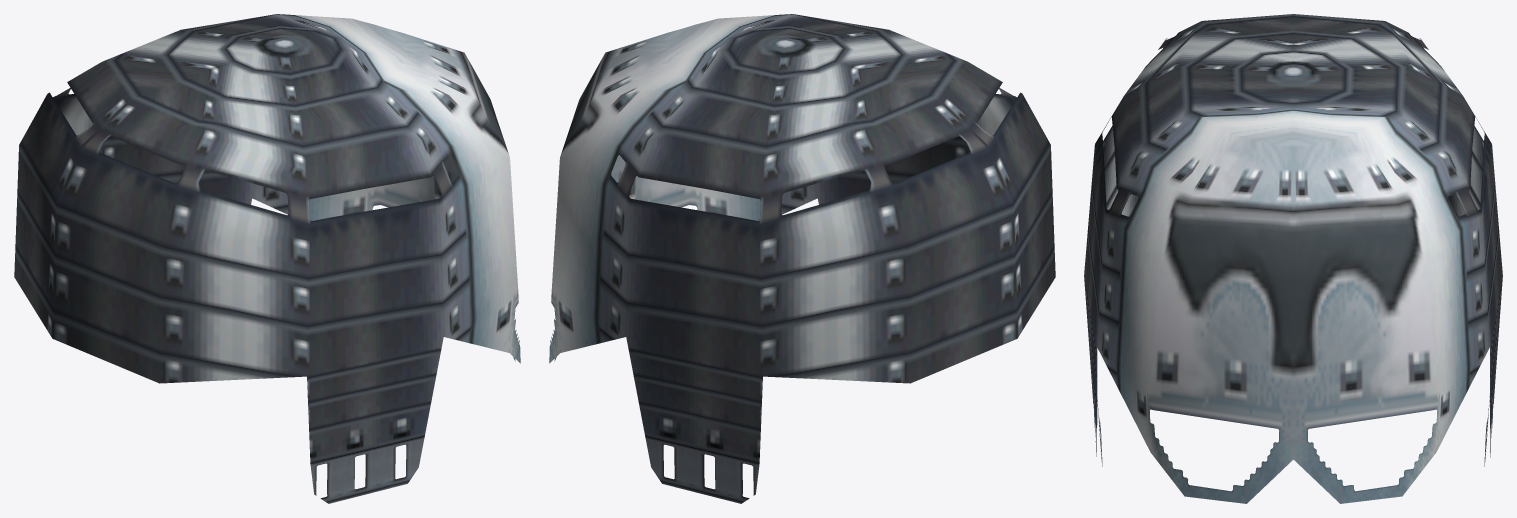
3 views of the same model, side by side, from view 1: azimuth 30°, elevation 25°; view 2: azimuth 150°, elevation 25°; view 3: azimuth 270°, elevation 25° (orthographic). The views are drawn at different scales.
Parts seen in each view (by area): view 1: it615; view 2: it615; view 3: it615.
Boxes of the visible parts, left/top/right/bottom form: it615: left=14, top=14, right=520, bottom=503; it615: left=549, top=14, right=1055, bottom=503; it615: left=1084, top=14, right=1502, bottom=503.
Size of the model in its own units: 1.29 by 1.05 by 1.03.
1 material, 1 textured.
